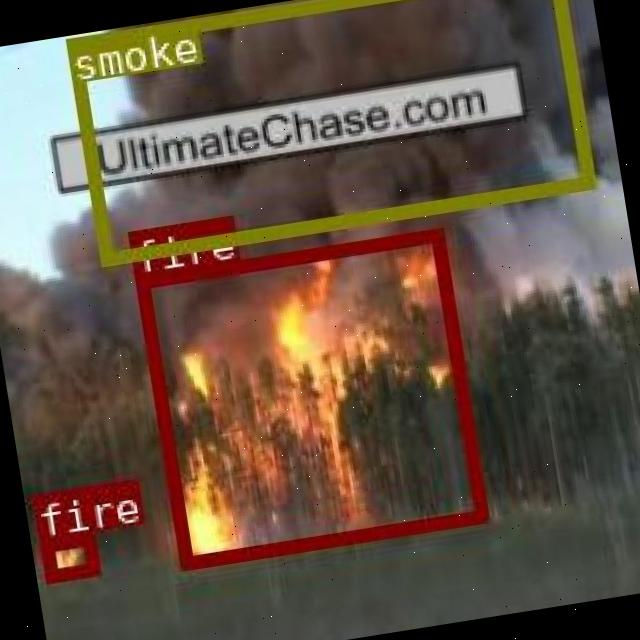fire: (132, 228, 486, 568), (38, 530, 98, 580)
smoke: (63, 0, 591, 264)
